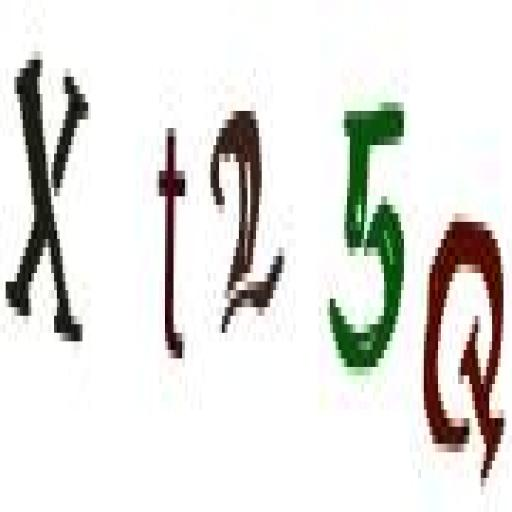2: (201, 89, 290, 352)
5: (327, 77, 410, 385)
Q: (418, 170, 512, 495)
X: (2, 15, 94, 368)
t: (152, 104, 196, 378)
